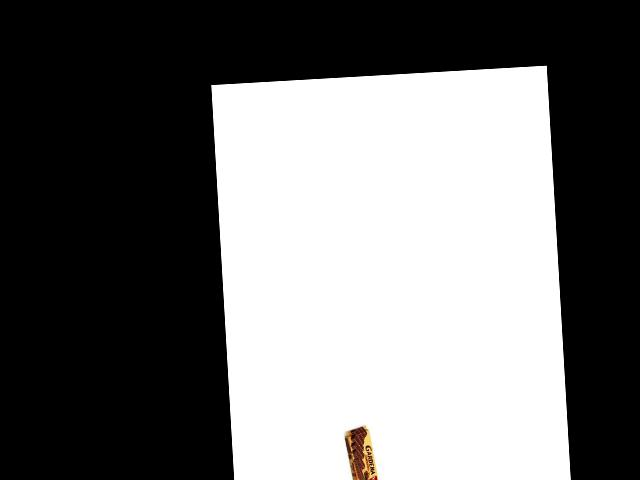chocolate: (346, 420, 381, 480)
